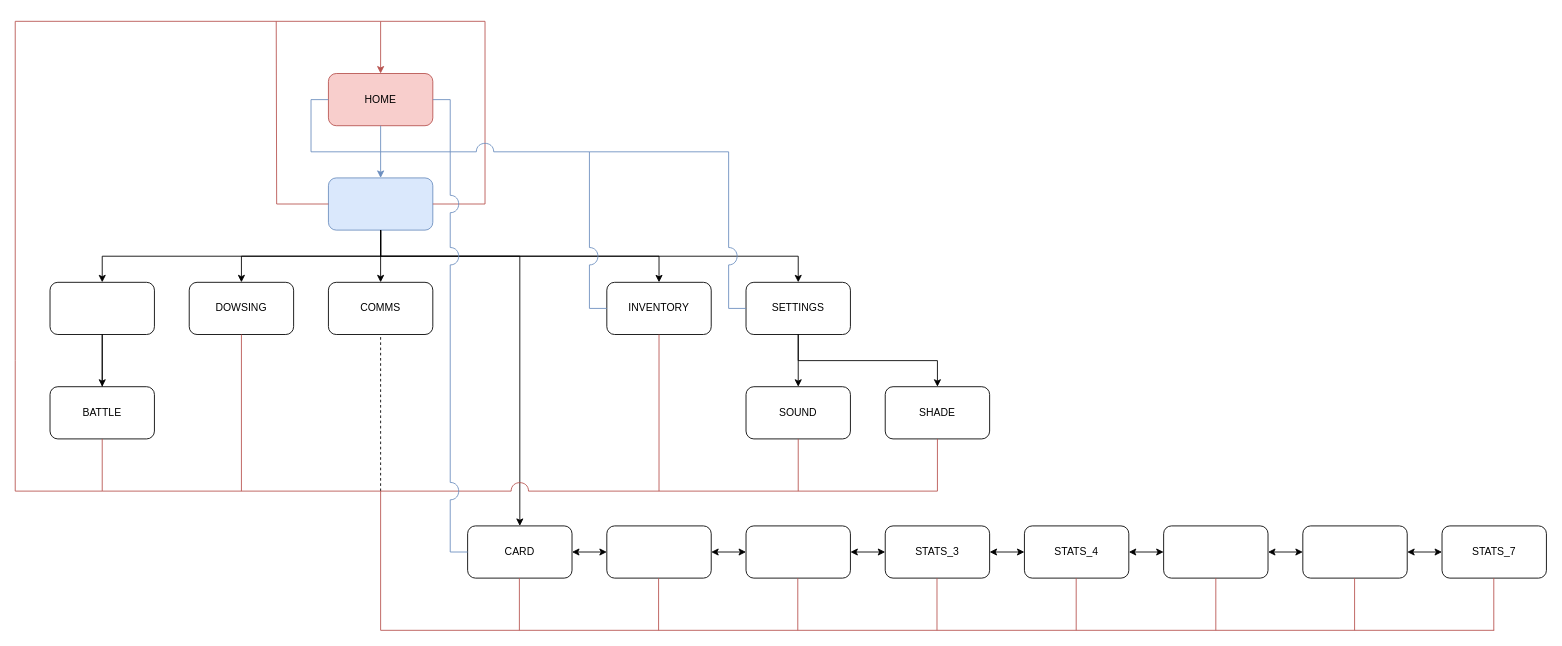
Image size: 1562x646. Some labels were removed from this diagram. Here are the shapes that lost their labels. From the top down, the box of each, then its label:
(328, 177, 433, 230): MENU
(49, 281, 154, 335): RADAR
(606, 525, 711, 578): STATS_1
(745, 525, 850, 578): STATS_2
(1163, 525, 1268, 578): STATS_5
(1302, 525, 1407, 578): STATS_6
